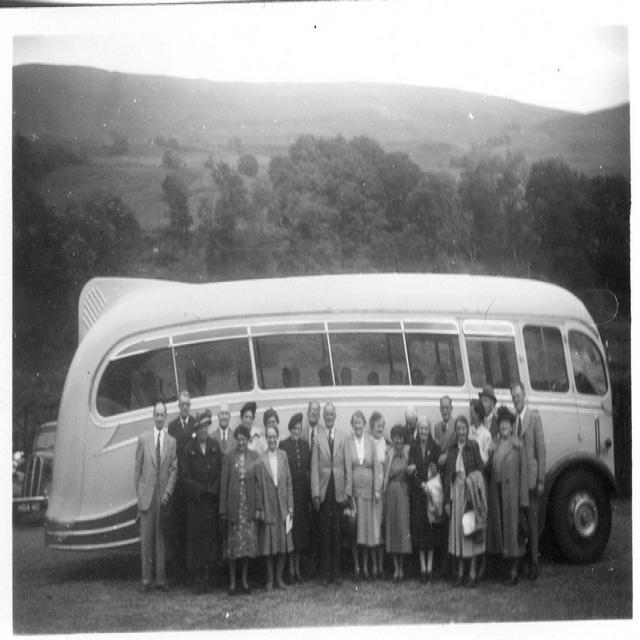Vehicle: (38, 270, 624, 571), (12, 420, 58, 527)
